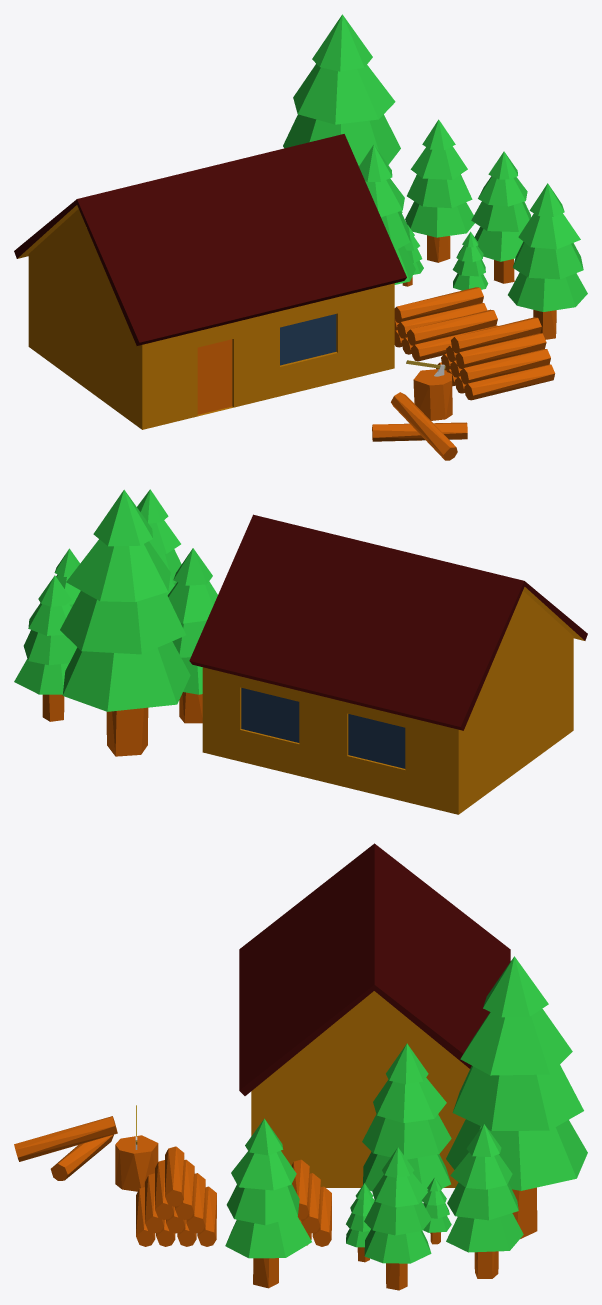
File: LumberjackHut.fbx
3 views of the same model, one above another, from view 1: azimuth 30°, elevation 25°; view 2: azimuth 150°, elevation 25°; view 3: azimuth 270°, elevation 25° (orthographic). The views are drawn at different scales.
Parts seen in each view (by area): view 1: LumberjackHut Lowpoly, Trees, Logs; view 2: LumberjackHut Lowpoly, Trees; view 3: LumberjackHut Lowpoly, Trees, Logs.
Boxes of the visible parts, left/top/right/bottom form: LumberjackHut Lowpoly: left=14, top=134, right=406, bottom=429; Trees: left=283, top=14, right=587, bottom=339; Logs: left=372, top=287, right=555, bottom=460; LumberjackHut Lowpoly: left=189, top=514, right=587, bottom=814; Trees: left=14, top=489, right=217, bottom=756; LumberjackHut Lowpoly: left=239, top=843, right=510, bottom=1187; Trees: left=225, top=956, right=587, bottom=1290; Logs: left=14, top=1105, right=331, bottom=1246.
Size of the model in its own units: 0.729 by 0.7224 by 0.3887.
